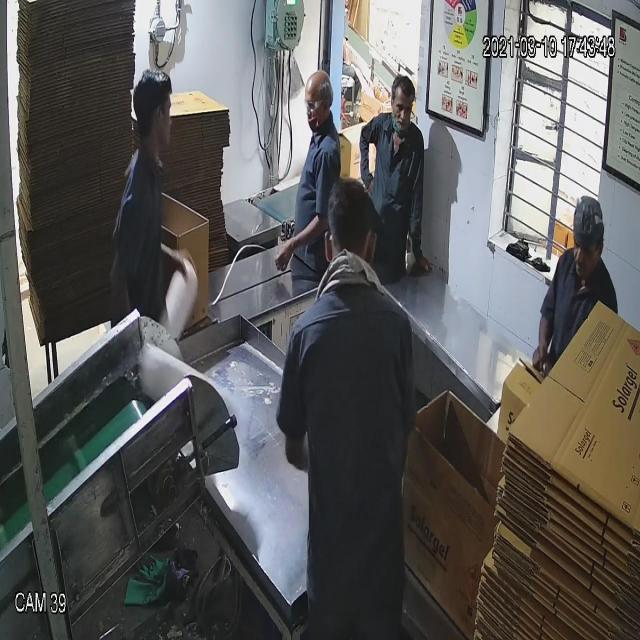No_Gloves: (24, 75, 543, 334)
